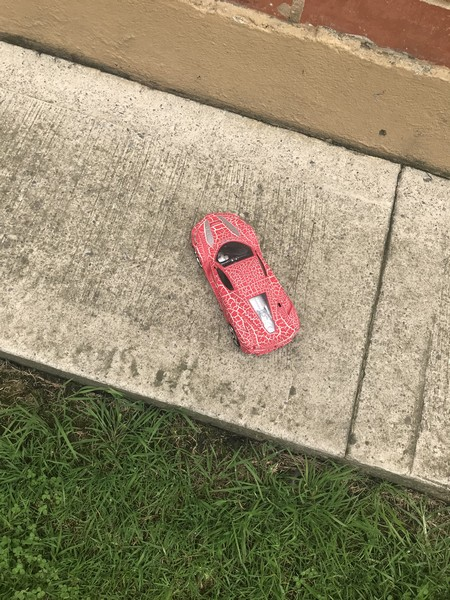RC: (189, 208, 301, 357)
